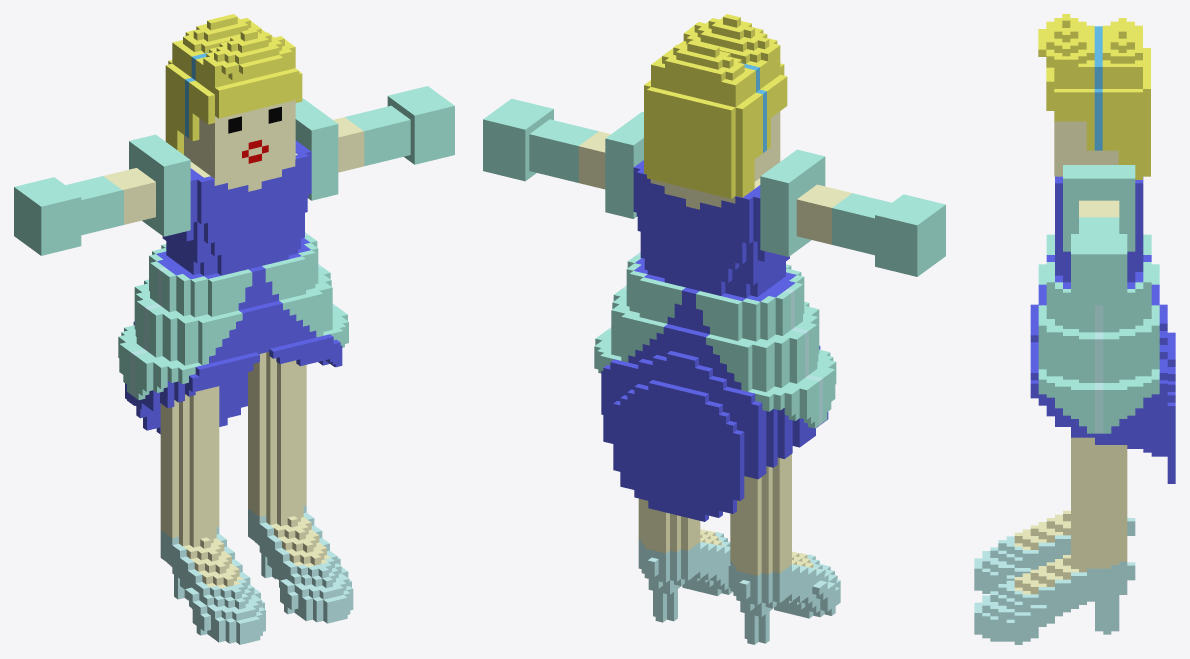
The model's file is Princess.fbx.
3 renders of one model, left to right at view 1: azimuth 30°, elevation 25°; view 2: azimuth 150°, elevation 25°; view 3: azimuth 270°, elevation 25°, orthographic. The views are drawn at different scales.
Parts seen in each view (by area): view 1: Pricess.004, Pricess.008, Pricess.005, Pricess.009, Pricess.012, Pricess.010, Pricess.006, Pricess, Pricess.003, Pricess.007, Pricess.001, Pricess.011 (+2 smaller); view 2: Pricess.004, Pricess.008, Pricess.012, Pricess.009, Pricess.005, Pricess.010, Pricess, Pricess.003, Pricess.001, Pricess.002, Pricess.013, Pricess.006; view 3: Pricess.004, Pricess.008, Pricess.005, Pricess.006, Pricess.003, Pricess.009, Pricess.001, Pricess.007, Pricess.002.
Part boxes in pixels (x1,y1,x2,y2): Pricess.004: (118,140,348,434); Pricess.008: (165,14,302,178); Pricess.005: (248,498,353,623); Pricess.009: (160,520,265,644); Pricess.012: (103,134,190,236); Pricess.010: (160,436,219,533); Pricess.006: (248,415,306,512); Pricess: (14,177,81,255); Pricess.003: (295,98,364,200); Pricess.007: (248,352,306,428); Pricess.001: (387,86,454,164); Pricess.011: (160,386,219,450); Pricess.004: (594,160,836,521); Pricess.008: (644,14,787,198); Pricess.012: (760,149,851,256); Pricess.009: (730,551,840,644); Pricess.005: (638,529,732,622); Pricess.010: (730,470,791,568); Pricess: (875,194,945,276); Pricess.003: (578,111,643,218); Pricess.001: (483,98,553,181); Pricess.002: (529,119,598,182); Pricess.013: (832,193,891,255); Pricess.006: (638,498,700,546); Pricess.004: (1030,176,1175,483); Pricess.008: (1038,14,1150,179); Pricess.005: (974,554,1135,644); Pricess.006: (1071,467,1127,561); Pricess.003: (1063,165,1135,251); Pricess.009: (974,510,1135,593); Pricess.001: (1071,234,1127,305); Pricess.007: (1071,437,1127,474); Pricess.002: (1079,217,1119,233).
Size of the model in its own units: 185 by 242 by 75.
